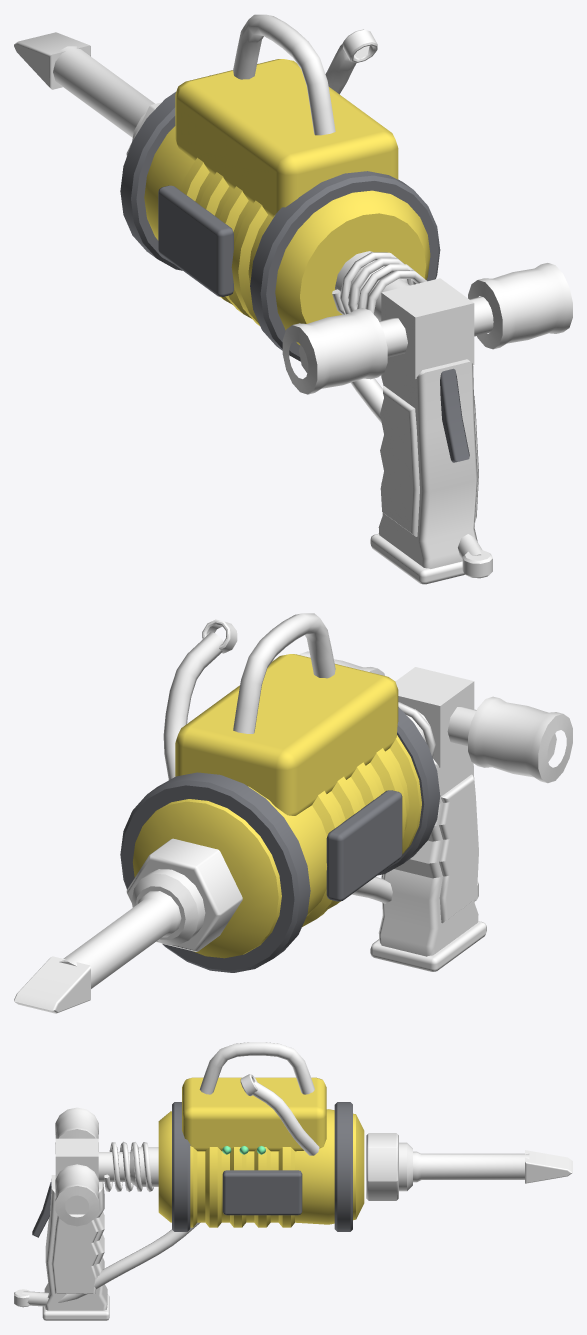
Rendered from Jackhammer.glb.
3 views of the same model, one above another, from view 1: azimuth 30°, elevation 25°; view 2: azimuth 150°, elevation 25°; view 3: azimuth 270°, elevation 25° (orthographic). The views are drawn at different scales.
Visible parts, largest first — view 1: Base, Primary, AccentTrim; view 2: Base, Primary, AccentTrim; view 3: Base, Primary, AccentTrim.
Boxes of the visible parts, left/top/right/bottom form: Base: left=14, top=14, right=572, bottom=584; Primary: left=144, top=59, right=430, bottom=344; AccentTrim: left=120, top=75, right=469, bottom=462; Base: left=14, top=613, right=572, bottom=1013; Primary: left=132, top=654, right=421, bottom=958; AccentTrim: left=120, top=707, right=440, bottom=972; Base: left=14, top=1042, right=572, bottom=1320; Primary: left=158, top=1077, right=364, bottom=1227; AccentTrim: left=32, top=1102, right=352, bottom=1237.
Size of the model in its own units: 1.84 by 2.92 by 5.49.
